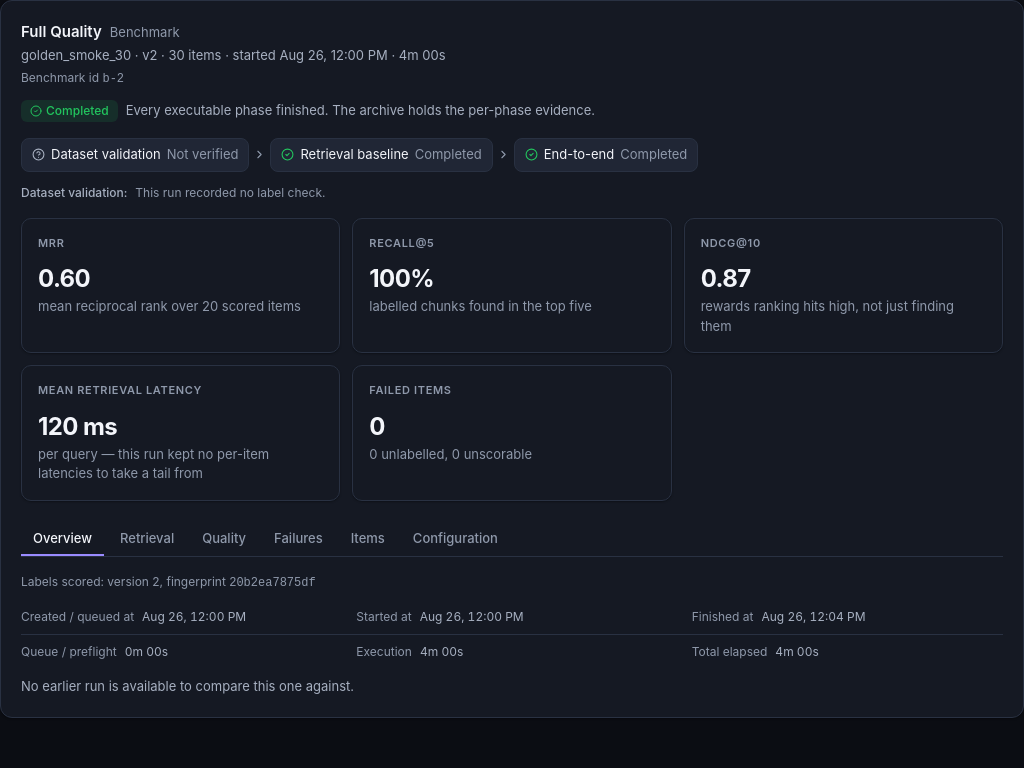
Test: items tab › sends a benchmark reader to the archive rather than showing an empty table
Click the tab "Items": (368,538) [339,520,397,556]
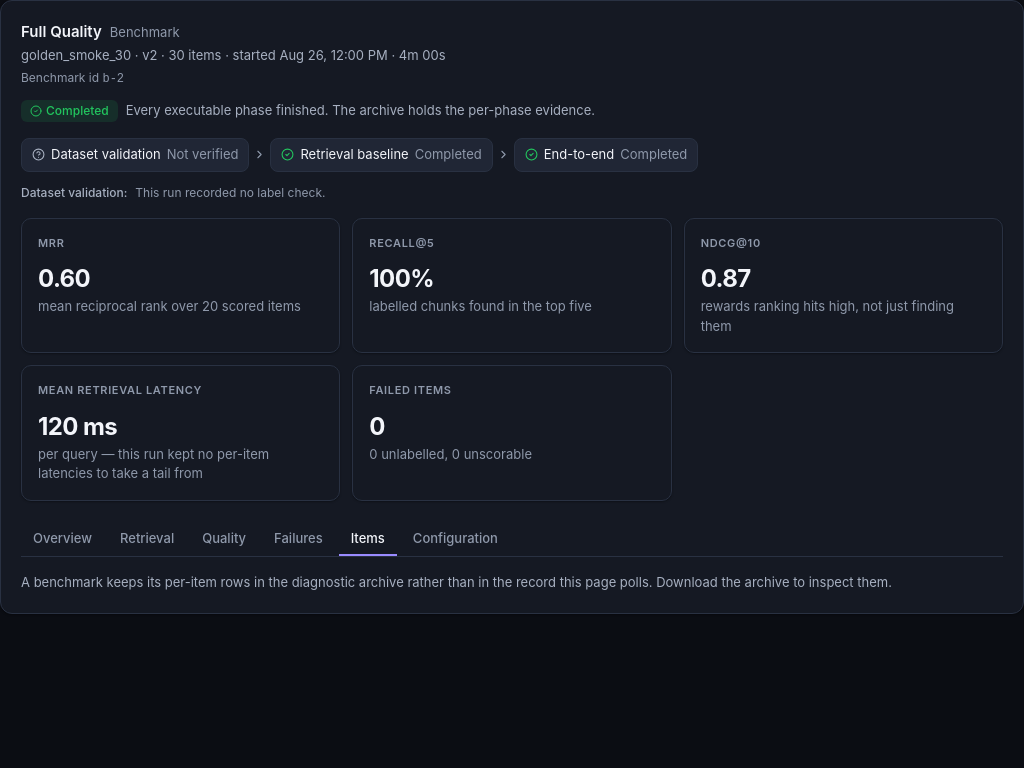
Expected: the text "diagnostic archive" is shown, [21,574,892,590]
